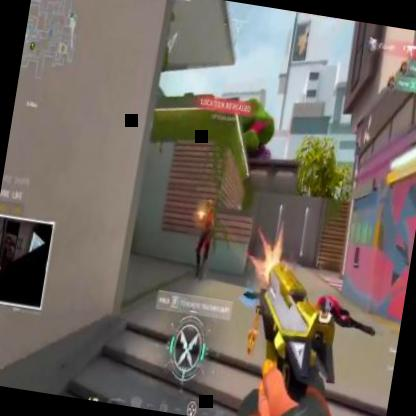enemy: (187, 195, 219, 281)
enemy_head: (205, 198, 213, 212)
